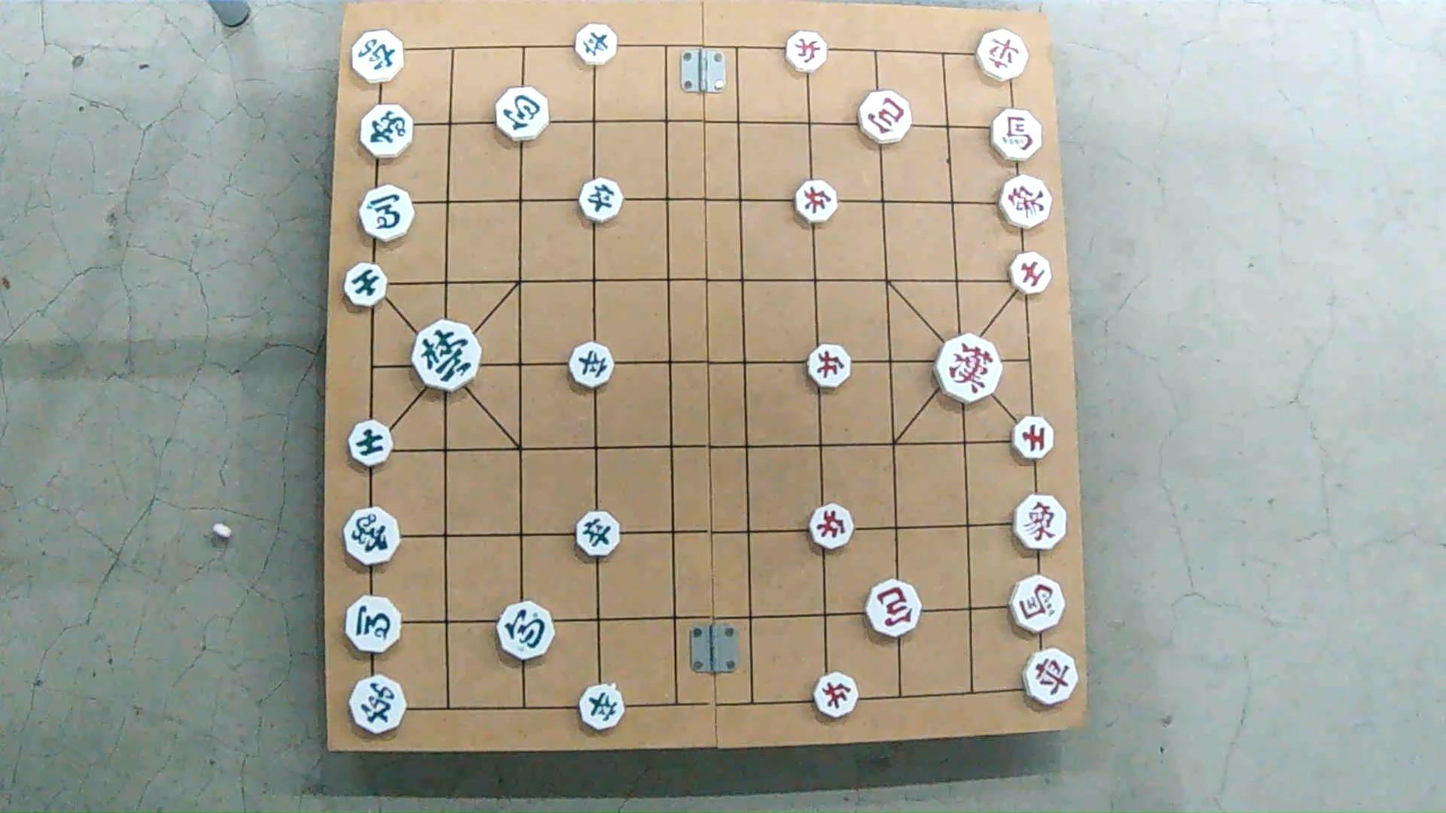cha_green: (350, 678, 408, 733), (350, 30, 405, 86)
cha_red: (1025, 650, 1077, 702), (976, 32, 1029, 79)
jol_green: (577, 179, 623, 221), (581, 684, 624, 726), (572, 345, 617, 385), (580, 514, 624, 554), (572, 25, 615, 65)
jol_red: (807, 506, 853, 550), (813, 672, 859, 716), (805, 345, 850, 388), (793, 181, 838, 221), (786, 32, 828, 72)
ma_green: (345, 595, 401, 655), (359, 189, 413, 242)
ma_red: (1010, 579, 1065, 633), (991, 110, 1045, 161)
po_green: (497, 598, 557, 662), (499, 87, 552, 139)
po_red: (866, 584, 921, 638), (857, 93, 912, 145)
sa_green: (349, 422, 395, 466), (346, 263, 391, 306)
sa_red: (1012, 413, 1054, 458), (1011, 251, 1050, 291)
sang_green: (343, 505, 400, 568), (358, 103, 413, 157)
sang_red: (1013, 498, 1069, 550), (1002, 174, 1051, 226)
wang_green: (413, 319, 480, 388)
wang_red: (932, 336, 1000, 401)
